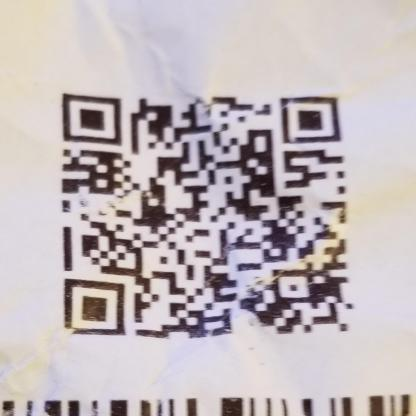barcode: (2, 393, 416, 416)
qr: (50, 82, 357, 345)
